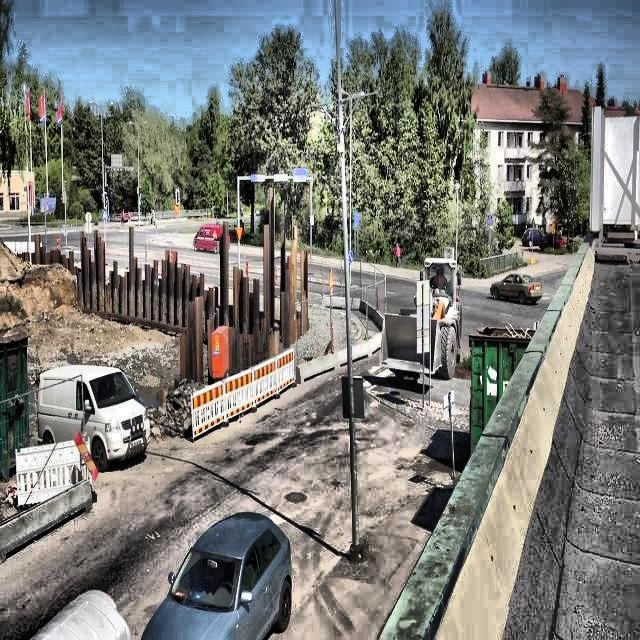bull_dozer/loader/grader: (380, 254, 468, 392)
